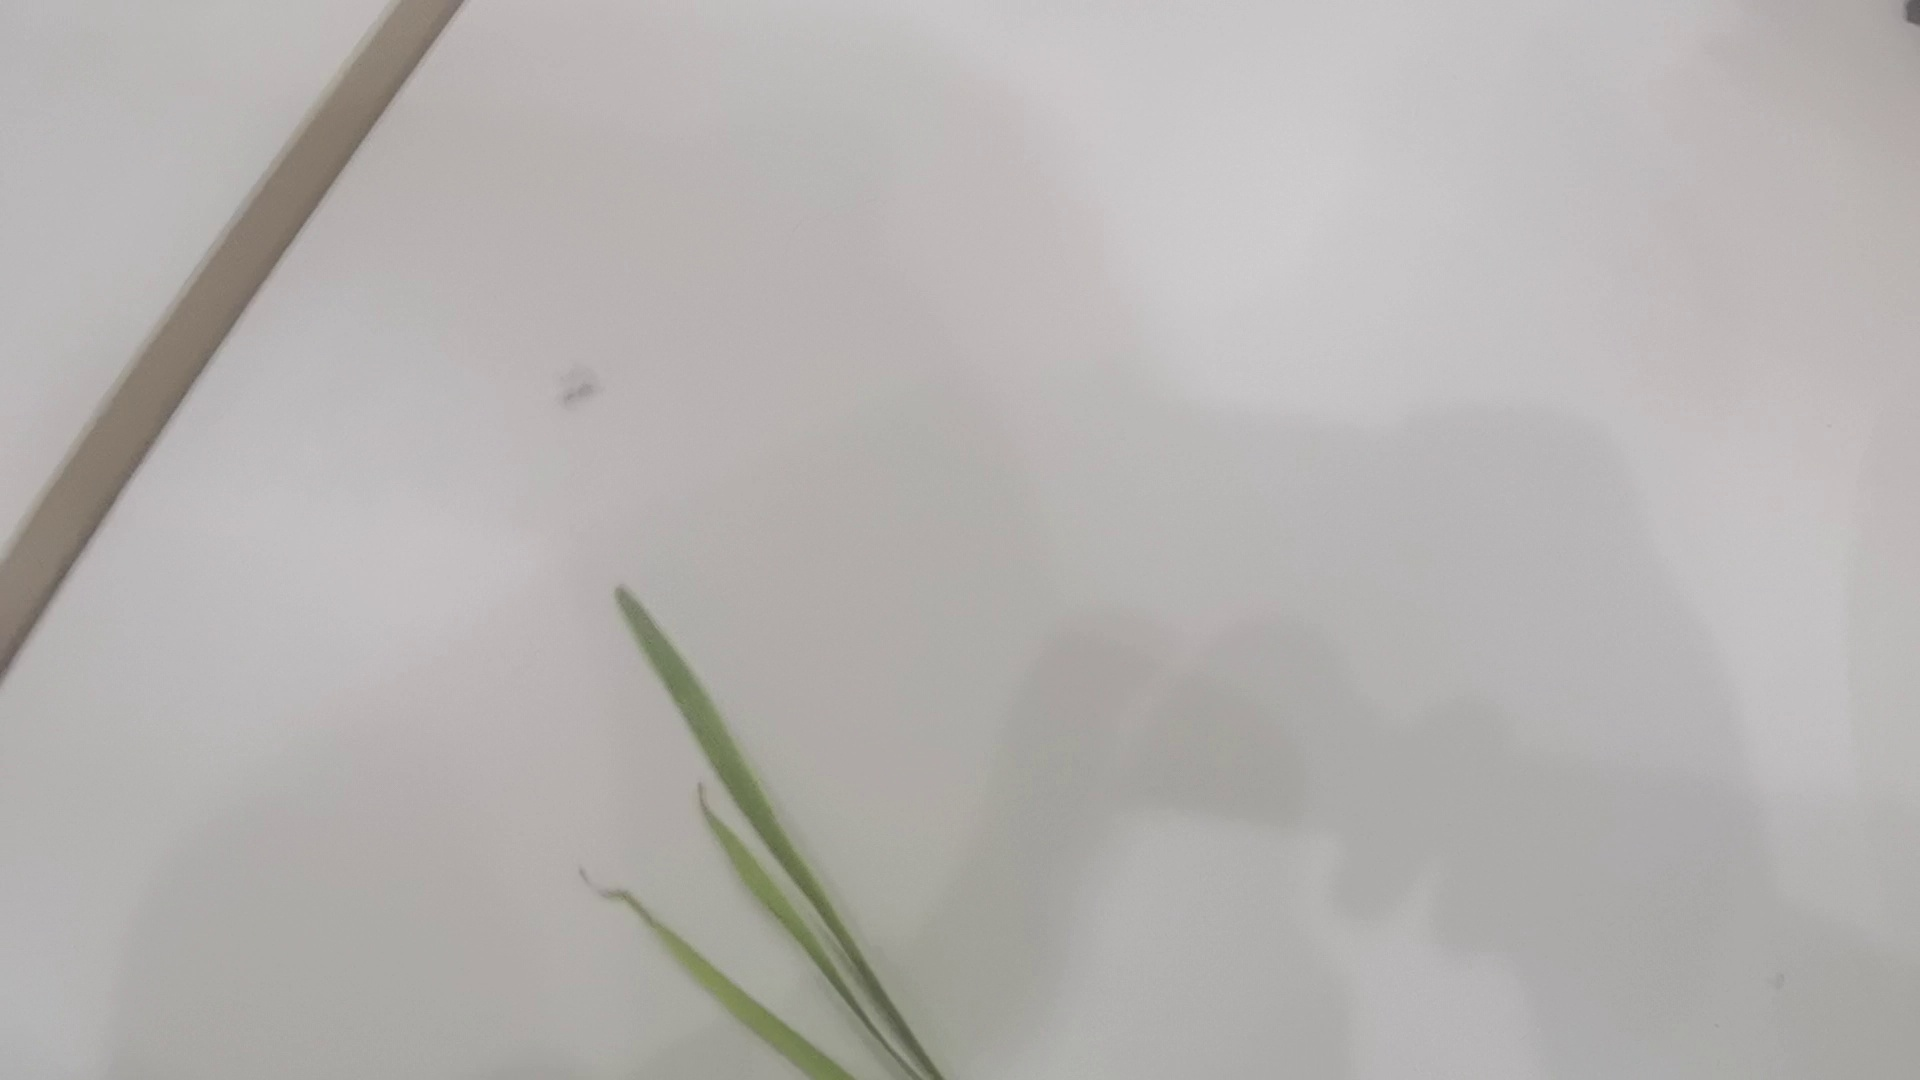chives: (527, 579, 942, 1080)
